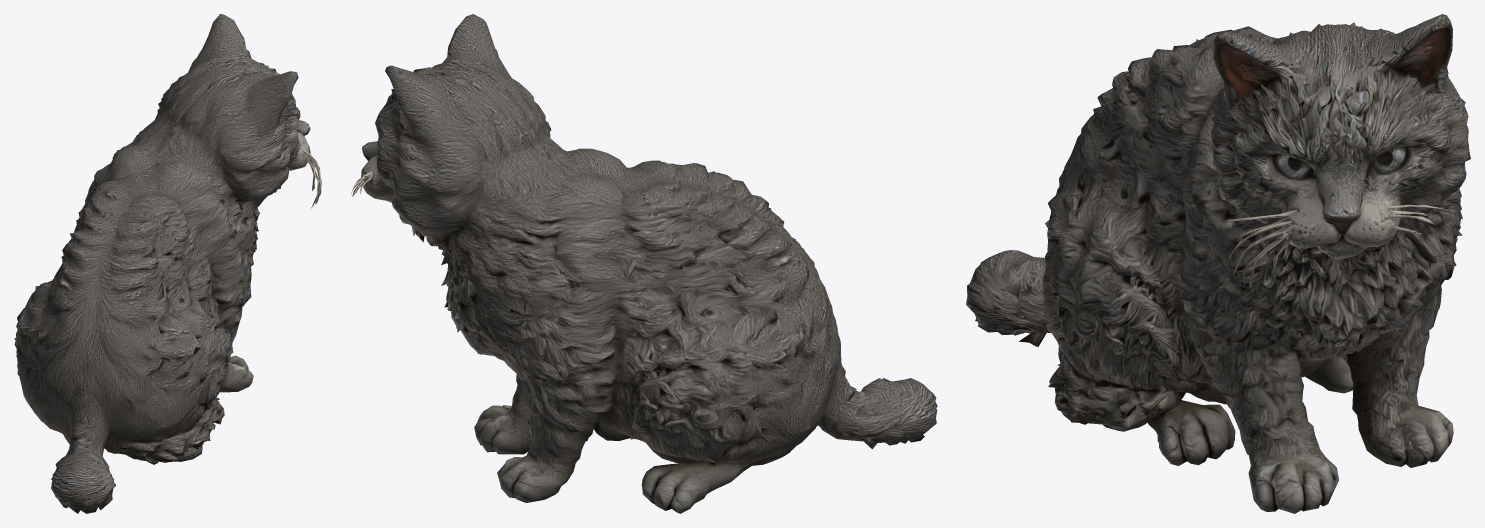
3 renders of one model, left to right at view 1: azimuth 30°, elevation 25°; view 2: azimuth 150°, elevation 25°; view 3: azimuth 270°, elevation 25°, orthographic. The views are drawn at different scales.
Visible parts, largest first — view 1: tripo_node_af1a13c6-816e-4576-862b-0129f433f8f2; view 2: tripo_node_af1a13c6-816e-4576-862b-0129f433f8f2; view 3: tripo_node_af1a13c6-816e-4576-862b-0129f433f8f2.
Part boxes in pixels (left/top/right/bottom): tripo_node_af1a13c6-816e-4576-862b-0129f433f8f2: left=14, top=14, right=321, bottom=513; tripo_node_af1a13c6-816e-4576-862b-0129f433f8f2: left=351, top=14, right=937, bottom=513; tripo_node_af1a13c6-816e-4576-862b-0129f433f8f2: left=966, top=14, right=1470, bottom=513.
Size of the model in its own units: 1 by 0.8786 by 0.7707.
1 material, 1 textured.
